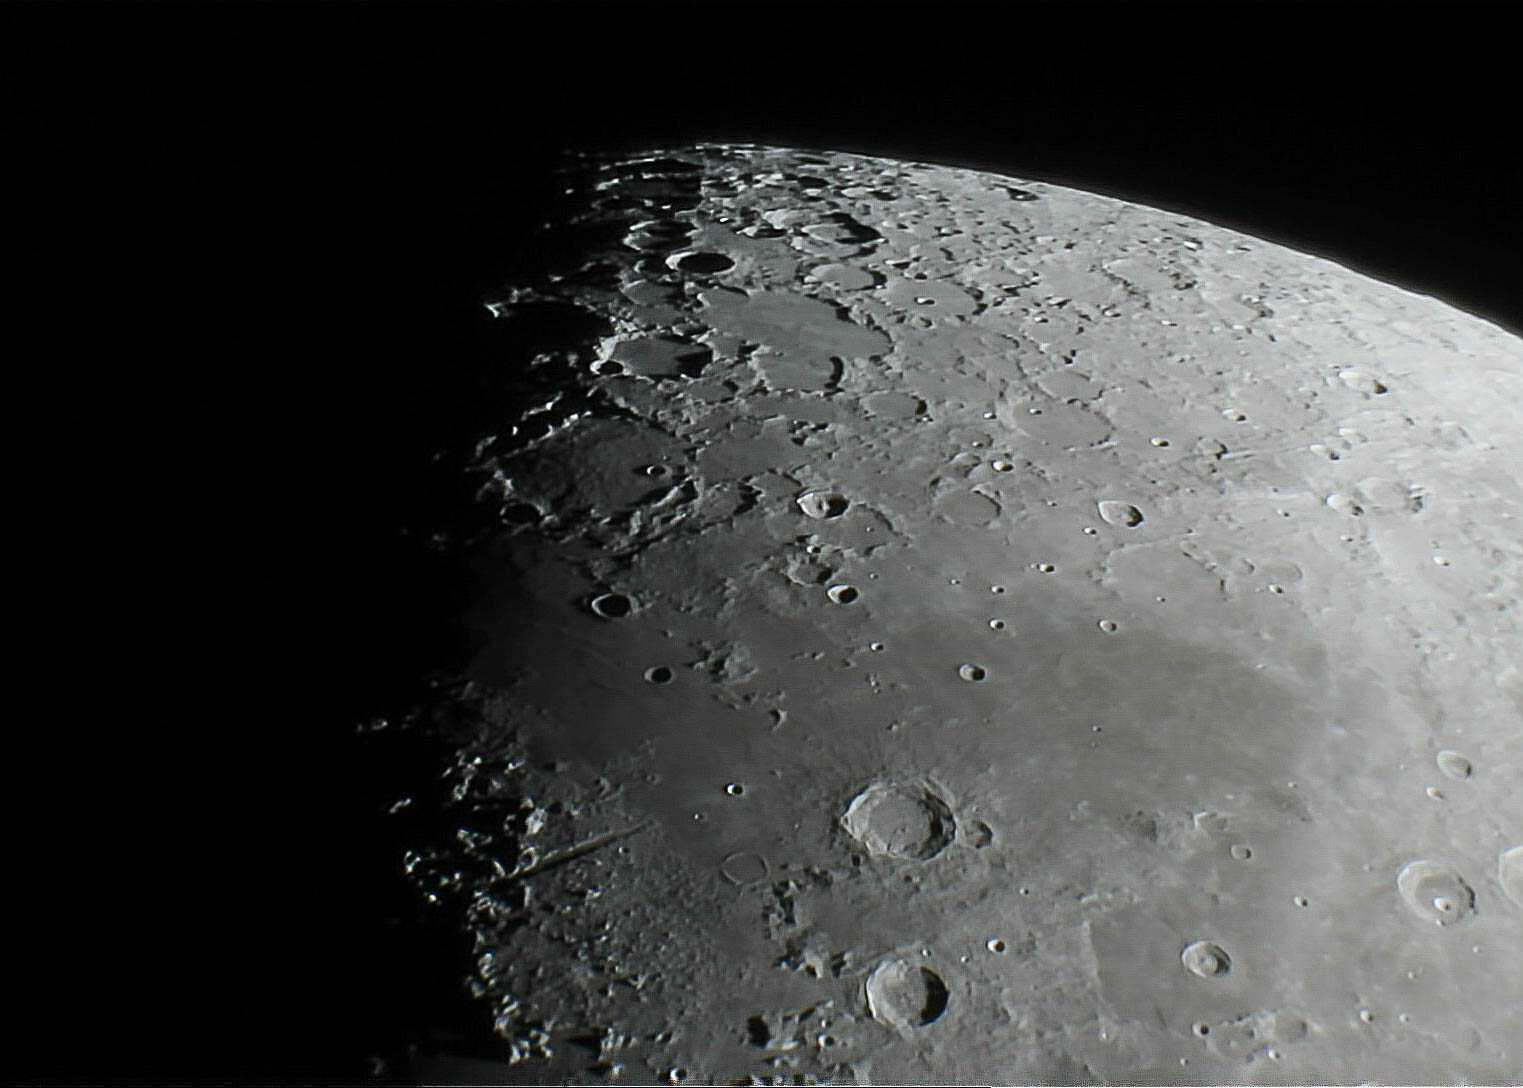crater: (814, 752, 976, 885), (838, 935, 970, 1064), (1370, 834, 1488, 971), (976, 380, 1143, 463), (925, 635, 1075, 718), (552, 569, 690, 643), (1160, 923, 1265, 1013), (1350, 459, 1456, 540), (1313, 347, 1417, 422), (1399, 714, 1503, 787), (649, 243, 761, 294), (606, 648, 691, 714), (1091, 479, 1160, 552), (701, 832, 778, 896), (1075, 593, 1145, 648)
